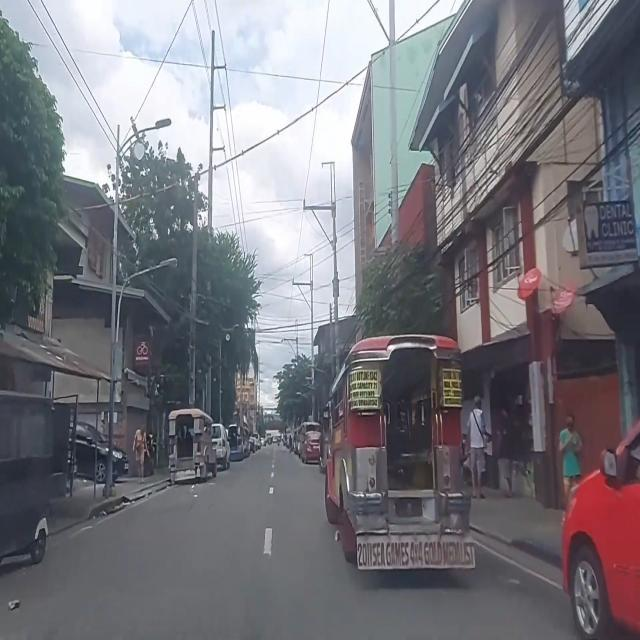car: (560, 416, 640, 640), (67, 422, 129, 484), (212, 423, 230, 473), (302, 432, 321, 468)
jeepney: (323, 336, 477, 570), (170, 409, 218, 486), (224, 424, 252, 462), (298, 422, 320, 461)
